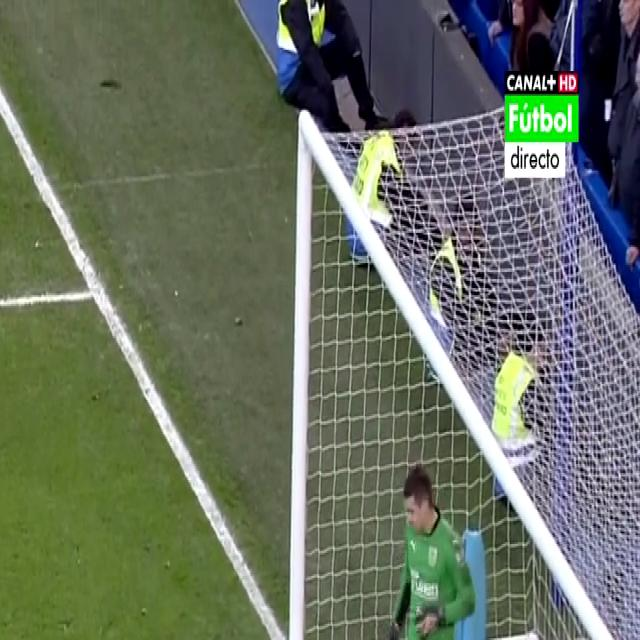goalkeeper: (357, 428, 485, 640)
